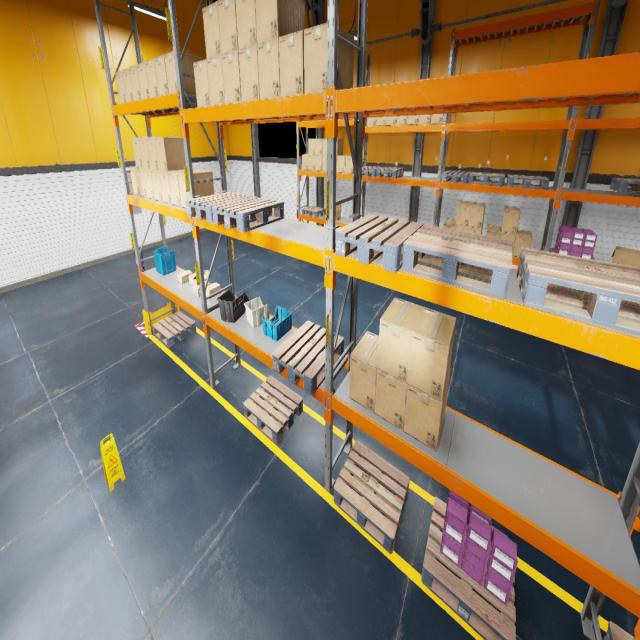box: (408, 307, 456, 401), (377, 297, 423, 383), (404, 368, 450, 451), (304, 22, 354, 94), (349, 330, 379, 412), (255, 0, 303, 43), (375, 368, 407, 431), (164, 51, 203, 95), (279, 29, 304, 96), (178, 170, 215, 208), (257, 38, 280, 99), (238, 44, 260, 102), (168, 169, 200, 206), (217, 0, 238, 55), (202, 1, 221, 59), (154, 137, 186, 171), (222, 50, 242, 104), (235, 0, 257, 49), (207, 55, 224, 106), (193, 59, 210, 107), (610, 246, 640, 267), (154, 54, 168, 96), (513, 229, 532, 257), (501, 206, 520, 234), (145, 58, 158, 97), (137, 62, 149, 99), (129, 64, 141, 100), (500, 228, 516, 255), (146, 137, 159, 170), (468, 203, 485, 228), (456, 201, 472, 226), (159, 171, 171, 204), (122, 67, 133, 102), (150, 170, 162, 202), (143, 168, 155, 199), (115, 70, 126, 103), (139, 137, 150, 169), (136, 168, 147, 197), (132, 138, 142, 168), (130, 166, 140, 195), (193, 281, 209, 296), (193, 270, 210, 284), (206, 282, 220, 298), (178, 270, 192, 284), (337, 156, 349, 172), (486, 225, 500, 238), (345, 155, 353, 173), (468, 225, 482, 235), (443, 219, 456, 229), (431, 114, 444, 124), (418, 114, 431, 124), (336, 139, 344, 155), (315, 155, 322, 171), (315, 138, 322, 154), (308, 138, 315, 154), (407, 115, 419, 124), (308, 155, 315, 170), (455, 224, 468, 232), (397, 116, 408, 125), (386, 116, 397, 125), (188, 273, 196, 285), (302, 154, 308, 170), (376, 116, 386, 125), (367, 117, 376, 126), (336, 204, 341, 220), (322, 156, 326, 172), (322, 139, 326, 155), (336, 156, 337, 172)
pallets: (421, 496, 516, 640), (517, 247, 640, 336), (334, 441, 409, 554), (402, 225, 513, 299), (272, 321, 344, 395), (336, 214, 424, 272), (243, 376, 303, 444), (212, 197, 284, 232), (185, 192, 253, 223), (152, 311, 196, 347), (506, 175, 550, 189), (603, 621, 634, 639), (609, 178, 640, 194), (550, 248, 594, 259), (468, 172, 505, 185), (441, 170, 472, 183), (376, 167, 404, 178), (302, 206, 326, 217), (362, 166, 383, 176)
